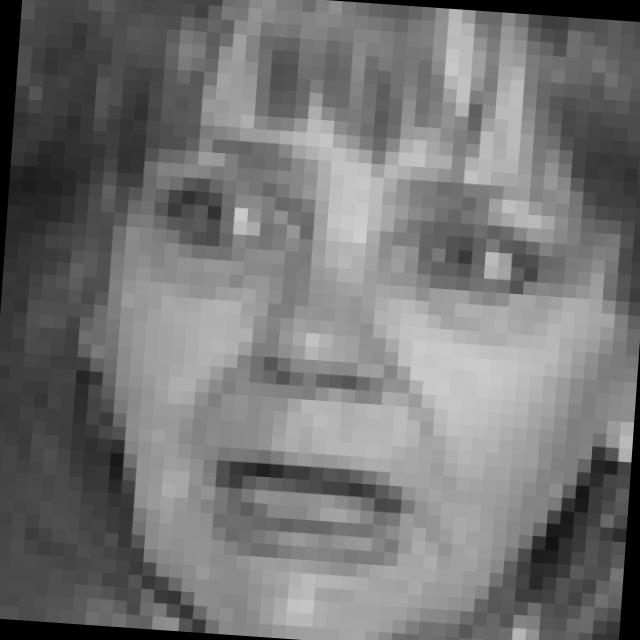fear: (106, 127, 576, 588)
